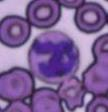N: (27, 31, 80, 83)
